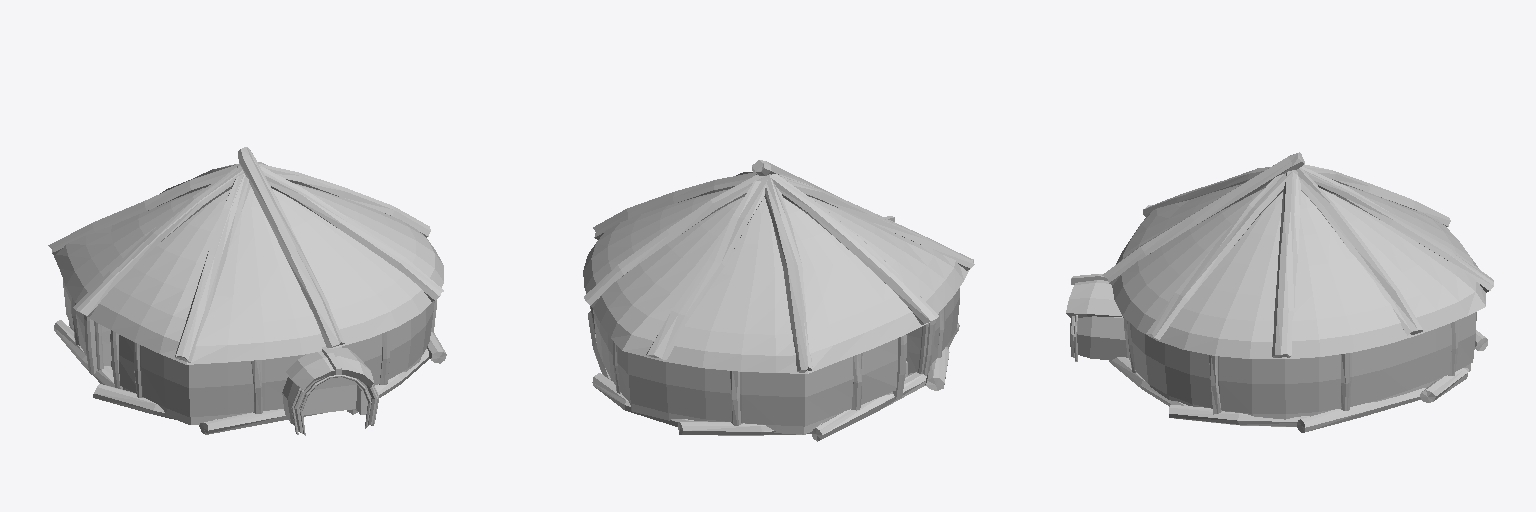
The model's file is House.obj.
3 renders of one model, left to right at view 1: azimuth 30°, elevation 25°; view 2: azimuth 150°, elevation 25°; view 3: azimuth 270°, elevation 25°, orthographic.
Parts seen in each view (by area): view 1: Cylinder.002_Cylinder.148; view 2: Cylinder.002_Cylinder.148; view 3: Cylinder.002_Cylinder.148.
Part boxes in pixels (bbox=[...]): Cylinder.002_Cylinder.148: bbox=[48, 147, 446, 435]; Cylinder.002_Cylinder.148: bbox=[583, 160, 974, 441]; Cylinder.002_Cylinder.148: bbox=[1066, 152, 1493, 432].
Size of the model in its own units: 12.62 by 7.11 by 13.4.